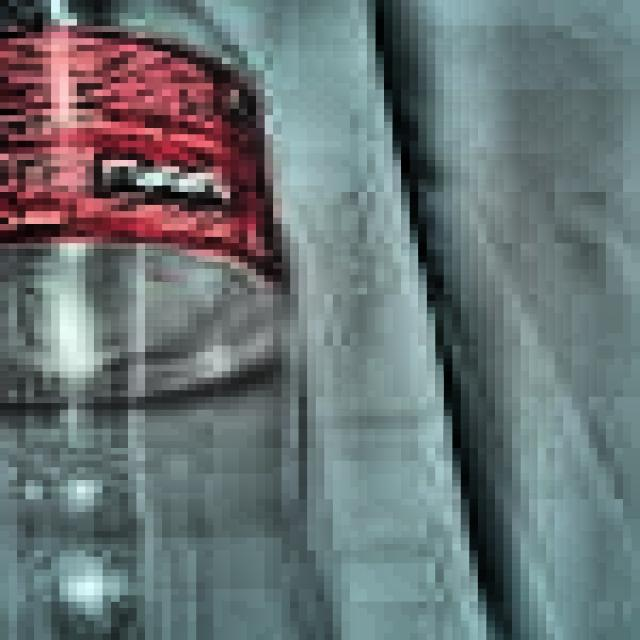plastic: (0, 0, 410, 640)
